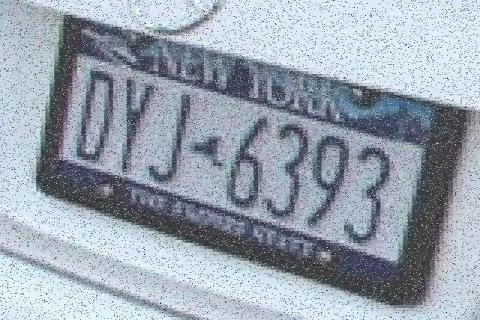LicensePlate: (22, 3, 477, 310)
